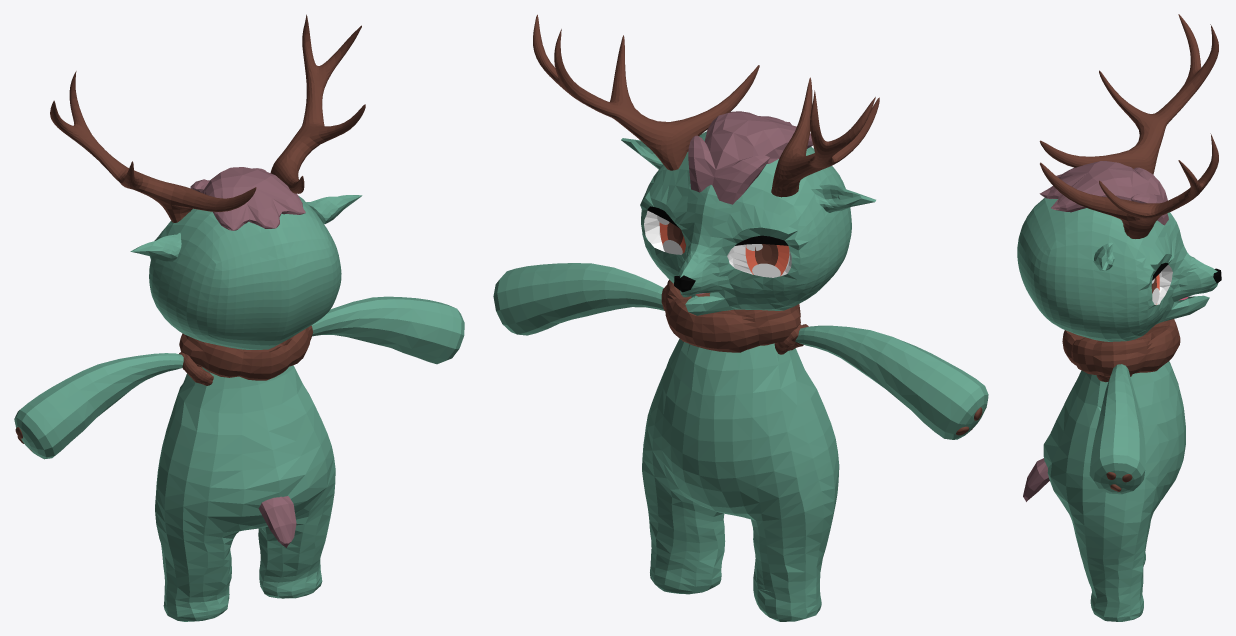
The model's file is ene1.fbx.
3 renders of one model, left to right at view 1: azimuth 30°, elevation 25°; view 2: azimuth 150°, elevation 25°; view 3: azimuth 270°, elevation 25°, orthographic. The views are drawn at different scales.
Parts seen in each view (by area): view 1: s.0710, s.0728, s.0734_Mirrored, s.0734, Wapiti_Antlers, Wapiti_Antlers_Mirrored, s.1246, s.0732, s.2309, s.0731, s.0731_Mirrored; view 2: s.0710, s.0728, s.0734_Mirrored, s.0734, s.1246, Wapiti_Antlers_Mirrored, s.0732, Wapiti_Antlers, s.0731; view 3: s.0710, s.0728, s.0734, Wapiti_Antlers, s.0732, Wapiti_Antlers_Mirrored, s.1246, s.2309, s.0731_Mirrored, s.0729.
Boxes of the visible parts, x1,y1,x2,y2 form: s.0710: [155, 365, 335, 621]; s.0728: [149, 196, 341, 349]; s.0734_Mirrored: [14, 353, 183, 459]; s.0734: [311, 296, 464, 364]; Wapiti_Antlers: [50, 71, 256, 222]; Wapiti_Antlers_Mirrored: [270, 14, 365, 193]; s.1246: [190, 167, 305, 230]; s.0732: [179, 325, 313, 380]; s.2309: [258, 496, 296, 547]; s.0731: [130, 233, 181, 261]; s.0731_Mirrored: [306, 195, 362, 224]; s.0710: [642, 292, 839, 621]; s.0728: [640, 131, 851, 315]; s.0734_Mirrored: [795, 325, 988, 439]; s.0734: [493, 263, 664, 335]; s.1246: [688, 111, 812, 204]; Wapiti_Antlers_Mirrored: [533, 14, 759, 170]; s.0732: [661, 279, 800, 352]; Wapiti_Antlers: [771, 77, 879, 197]; s.0731: [811, 184, 875, 212]; s.0710: [1043, 361, 1185, 621]; s.0728: [1017, 198, 1218, 341]; s.0734: [1089, 364, 1145, 494]; Wapiti_Antlers: [1039, 14, 1218, 174]; s.0732: [1062, 319, 1180, 376]; Wapiti_Antlers_Mirrored: [1040, 133, 1218, 238]; s.1246: [1039, 161, 1168, 225]; s.2309: [1023, 458, 1049, 501]; s.0731_Mirrored: [1093, 242, 1114, 270]; s.0729: [1156, 265, 1172, 304].
Bounding box in the file's own units: 0.5018 × 0.2076 × 0.5749.
